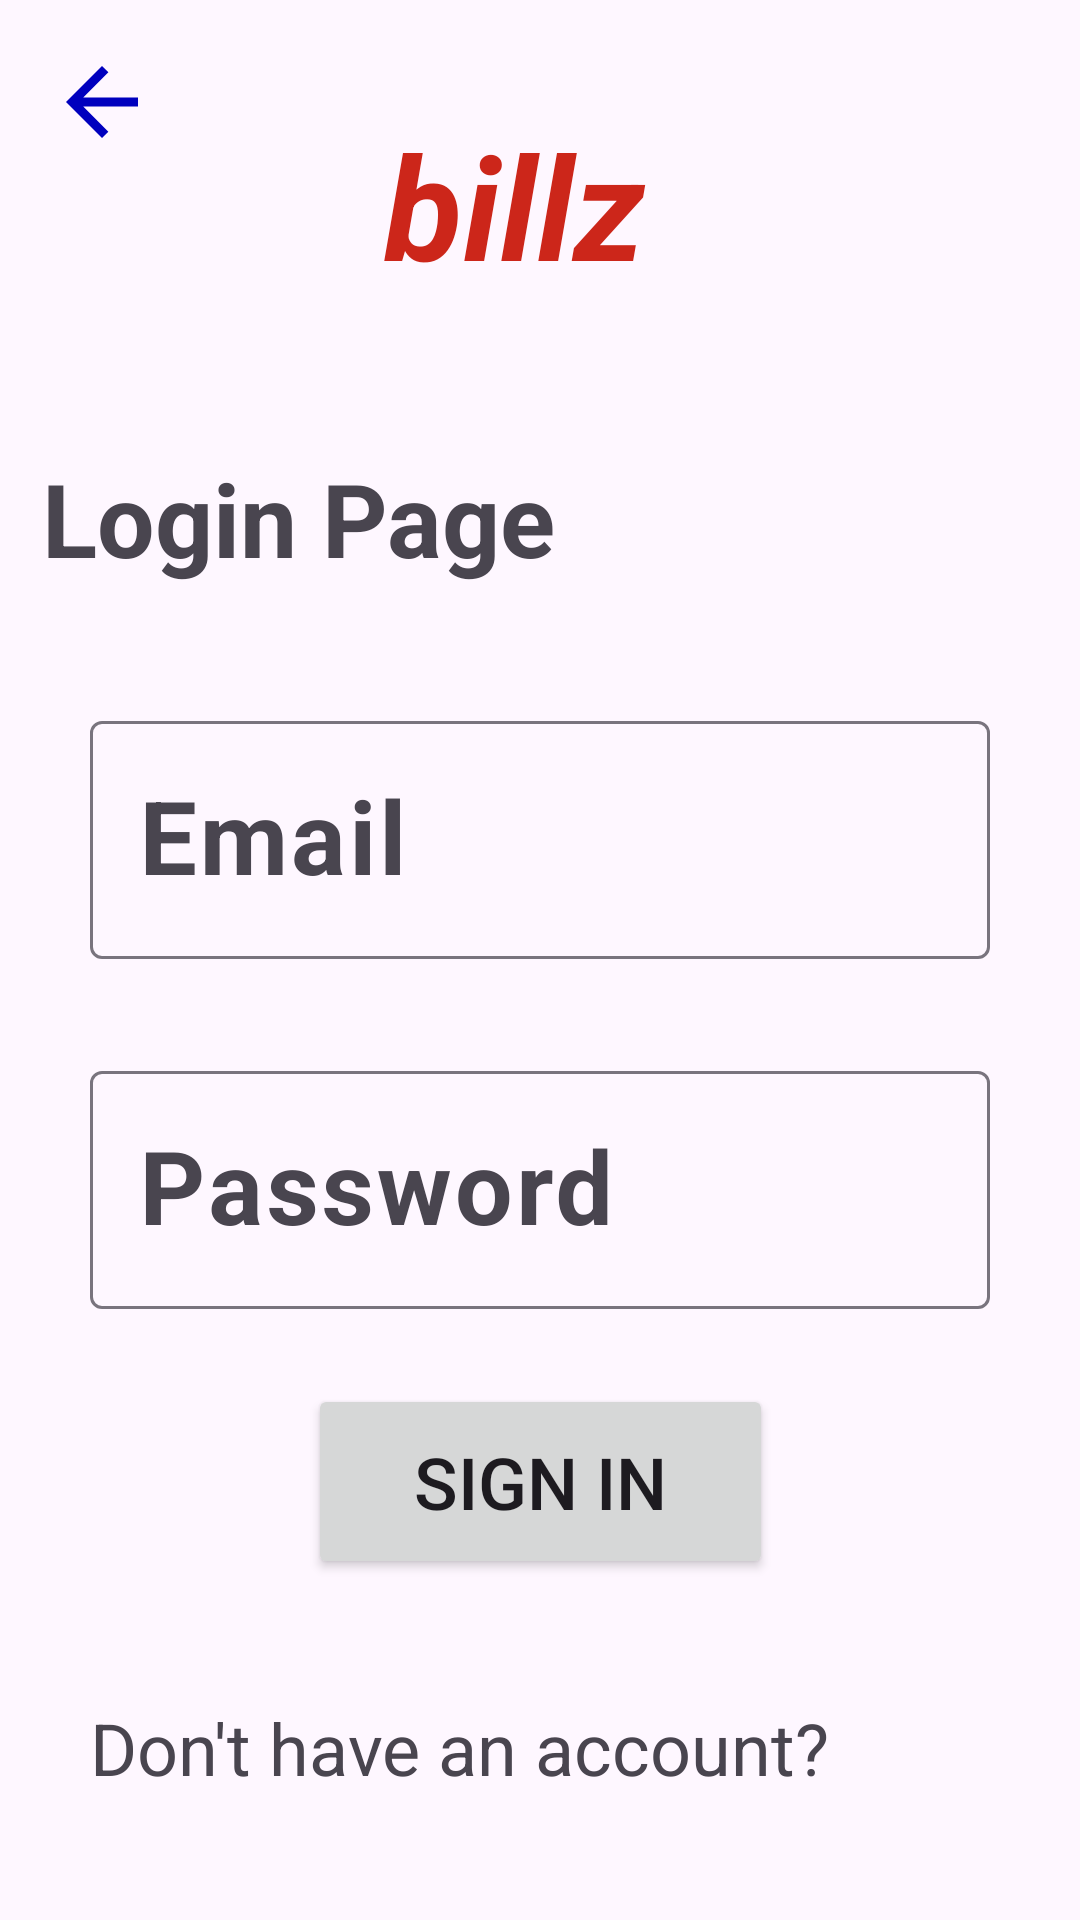

Named icons in this screenshot (1080×1920) and their bounding boxes, (x1, y1, x2, y2):
arrow back: (66, 66, 138, 138)
